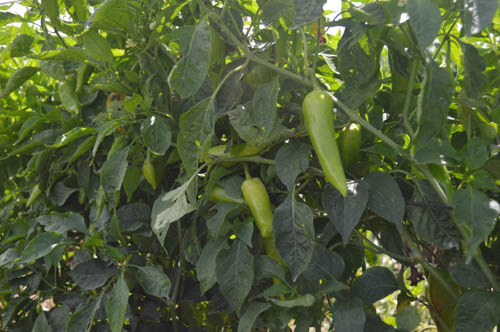ChiliPepper: (307, 89, 350, 194), (242, 176, 274, 237), (207, 138, 263, 158), (337, 121, 362, 161), (200, 180, 238, 203)
